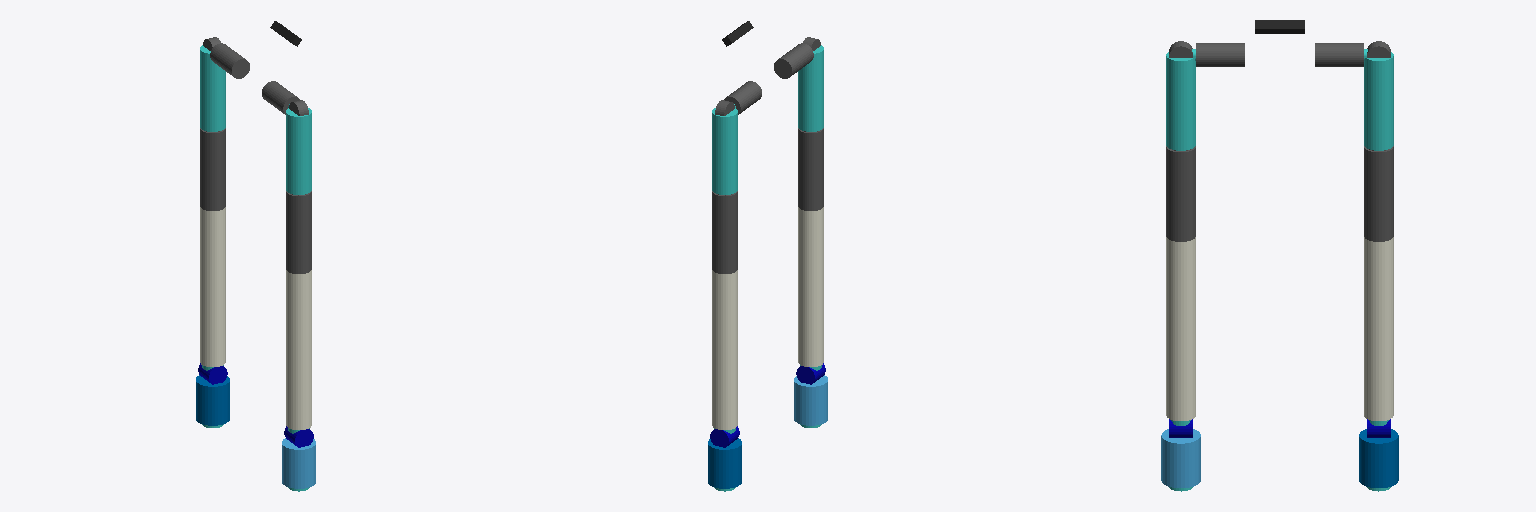
--- What the picture shows (computed from the rendered views, not written in the file) ---
The picture shows the robot from 3 angles, left to right: view 1: azimuth 30°, elevation 25°; view 2: azimuth 150°, elevation 25°; view 3: azimuth 270°, elevation 25°; orthographic projection.
Robot: buff_digit — 47 links, 46 joints (12 revolute, 1 continuous, 33 fixed); root link base_link; default pose: all joints at 0.
Visible links, largest first — view 1: left_link4, right_link4, right_link2, left_link3, right_link3, left_link2, left_gripper_base, right_gripper_base, left_attach, right_attach; view 2: left_link4, right_link4, left_link2, right_link3, left_link3, right_link2, right_gripper_base, left_gripper_base, right_attach, left_attach; view 3: left_link4, right_link4, left_link2, right_link2, left_link3, right_link3, left_gripper_base, right_gripper_base, left_attach, right_attach, torso_camera_link.
Link boxes in pixels (x1,y1,x2,y2): left_link4: (200, 207, 225, 366); right_link4: (286, 270, 311, 429); right_link2: (286, 108, 311, 194); left_link3: (200, 128, 225, 210); right_link3: (286, 191, 311, 273); left_link2: (200, 45, 225, 131); left_gripper_base: (196, 375, 229, 425); right_gripper_base: (282, 438, 315, 488); left_attach: (210, 43, 249, 78); right_attach: (262, 81, 299, 114); left_link4: (712, 270, 737, 429); right_link4: (798, 207, 823, 366); left_link2: (712, 108, 737, 194); right_link3: (798, 128, 823, 210); left_link3: (712, 191, 737, 273); right_link2: (798, 45, 823, 131); right_gripper_base: (794, 375, 827, 425); left_gripper_base: (708, 438, 741, 488); right_attach: (774, 43, 813, 78); left_attach: (724, 81, 761, 114); left_link4: (1364, 237, 1393, 420); right_link4: (1166, 237, 1195, 420); left_link2: (1364, 52, 1393, 150); right_link2: (1166, 52, 1195, 150); left_link3: (1364, 146, 1393, 241); right_link3: (1166, 146, 1195, 241); left_gripper_base: (1359, 429, 1398, 487); right_gripper_base: (1161, 429, 1200, 487); left_attach: (1315, 43, 1363, 66); right_attach: (1196, 43, 1244, 66); torso_camera_link: (1255, 20, 1304, 33).
Bounding box of the posed robot: 0.135 × 0.48 × 1.08 m (x, y, z).
Meshes: 9 distinct files referenced, 0 mesh visuals loaded (none loaded); not drawn: 17 (reference not matched to a file when rendering), 3 (reference in a form the renderer does not follow; not among the files counted above).

robot.urdf — buff_digit:
<robot name="buff_digit" >

  <material name="black">
    <color rgba="0.2 0.2 0.2 1.0"/>
  </material>
  <material name="blue">
    <color rgba="1.0 1.0 1.0 1.0"/>
  </material>
  <material name="green">
    <color rgba="1.0 1.0 1.0 1.0"/>
  </material>
  <material name="grey">
    <color rgba="0.4 0.4 0.4 1.0"/>
  </material>
  <material name="silver">
    <color rgba="0.913725490196 0.913725490196 0.847058823529 1.0"/>
  </material>
  <material name="orange">
    <color rgba="1.0 1.0 1.0 1.0"/>
  </material>
  <material name="brown">
    <color rgba="0.870588235294 0.811764705882 0.764705882353 1.0"/>
  </material>
  <material name="red">
    <color rgba="1.0 1.0 1.0 1.0"/>
  </material>
  <material name="white">
    <color rgba="1.0 1.0 1.0 1.0"/>
  </material>
  <material name="scarlet">
    <color rgba="0.28 0.82 0.8 1"/>
  </material>




<link name="torso">
    <inertial>
      <origin rpy="0 0 0" xyz="0.001637 0.0002 0.259547"/>
      <mass value="0.028392"/>
      <inertia ixx="0.376284" ixy="-8.8e-05" ixz="0.008378" iyy="0.342655" iyz="6.7e-05" izz="0.100648"/>
    </inertial>
    <visual>
      <origin rpy="0 0 0" xyz="0 0 0"/>
      <geometry>
        <mesh filename="stl/torso.stl"/>
      </geometry>
      <material name="scarlet"/> 
    </visual>
    <collision>
      <origin rpy="0 0 0" xyz="0 0 0"/>
      <geometry>
        <mesh filename="stl/torso.stl"/>
      </geometry>
    </collision>
  </link>


 
  <!-- LEGS -->
  <link name="left_hip_roll">
    <inertial>
      <origin rpy="0 0 0" xyz="-0.001967 0.000244 0.031435"/>
      <mass value="0.915088"/>
      <inertia ixx="0.001017" ixy="-3e-06" ixz="1.3e-05" iyy="0.001148" iyz="-4e-06" izz="0.000766"/>
    </inertial>
    <visual>
      <origin rpy="0 0 0" xyz="0 0 0"/>
      <geometry>
        <mesh filename="stl/hip-yaw-housing.stl"/>
      </geometry>
      <material name="grey">
        <color rgba="0.35 0.35 0.35 1"/>
      </material>
    </visual>
    <collision>
      <origin rpy="0 0 0" xyz="0 0 0"/>
      <geometry>
        <mesh filename="stl/hip-yaw-housing.stl"/>
      </geometry>
    </collision>
  </link>
  <link name="left_hip_yaw">
    <inertial>
      <origin rpy="0 0 0" xyz="1e-05 -0.001945 0.042033"/>
      <mass value="0.818753"/>
      <inertia ixx="0.001627" ixy="-1e-06" ixz="2e-06" iyy="0.001929" iyz="5.3e-05" izz="0.00077"/>
    </inertial>
    <visual>
      <origin rpy="0 0 0" xyz="0 0 0"/>
      <geometry>
        <mesh filename="stl/hip-pitch-housing.stl"/>
      </geometry>
      <material name="light_grey">
        <color rgba="0.75 0.75 0.75 1"/>
      </material>
    </visual>
     <collision>
      <origin rpy="0 0 0" xyz="0 0 0"/>
      <geometry>
        <mesh filename="stl/hip-pitch-housing.stl"/>
      </geometry>
    </collision>
  </link>
  <link name="left_hip_pitch">
    <inertial>
      <origin rpy="0 0 0" xyz="0.060537 0.000521 -0.038857"/>
      <mass value="6.244279"/>
      <inertia ixx="0.011533" ixy="-0.000171" ixz="0.000148" iyy="0.033345" iyz="0.000178" izz="0.033958"/>
    </inertial>
    <visual>
      <origin rpy="0 0 0" xyz="0 0 0"/>
      <geometry>
        <mesh filename="stl/hip-pitch.stl"/>
      </geometry>
      <material name="scarlet"/> 
    </visual>
    <collision>
      <origin rpy="0 0 0" xyz="0 0 0"/>
      <geometry>
        <mesh filename="stl/hip-pitch.stl"/>
      </geometry>
    </collision>
  </link>
  <link name="left_knee">
    <inertial>
      <origin rpy="0 0 0" xyz="0.045641 0.042154 0.001657"/>
      <mass value="1.227077"/>
      <inertia ixx="0.002643" ixy="-0.001832" ixz="6.6e-05" iyy="0.005098" iyz="4.5e-05" izz="0.007019"/>
    </inertial>
    <visual>
      <origin rpy="0 0 0" xyz="0 0 0"/>
      <geometry>
        <mesh filename="stl/knee.stl"/>
      </geometry>
      <material name="grey">
        <color rgba="0.35 0.35 0.35 1"/>
      </material>
    </visual>
    <collision>
      <origin rpy="0 0 0" xyz="0 0 0"/>
      <geometry>
        <mesh filename="stl/knee.stl"/>
      </geometry>
    </collision>
  </link>
  <link name="left_shin">
    <inertial>
      <origin rpy="0 0 0" xyz="0.174265 0.010265 0.00107"/>
      <mass value="0.895793"/>
      <inertia ixx="0.001128" ixy="0.001098" ixz="0.000196" iyy="0.022492" iyz="-3e-06" izz="0.022793"/>
    </inertial>
    <visual>
      <origin rpy="0 0 0" xyz="0 0 0"/>
      <geometry>
        <mesh filename="stl/shin.stl"/>
      </geometry>
      <material name="scarlet"/> 
    </visual>
    <collision>
      <origin rpy="0 0 0" xyz="0 0 0"/>
      <geometry>
        <mesh filename="stl/shin.stl"/>
      </geometry>
    </collision>
  </link>
 <link name="left_tarsus">
    <inertial>
      <origin rpy="0 0 0" xyz="0.000932 -0.029183 0.000678"/>
      <mass value="1.322865"/>
      <inertia ixx="0.000932" ixy="0.00061" ixz="0.000102" iyy="0.016409" iyz="9e-06" izz="0.016501"/>
    </inertial>
    <visual>
      <origin rpy="0 0 0" xyz="0 0 0"/>
      <geometry>
        <mesh filename="stl/tarsus.stl"/>
      </geometry>
      <material name="grey">
        <color rgba="0.35 0.35 0.35 1"/>
      </material>
    </visual>
    <collision>
      <origin rpy="0 0 0" xyz="0 0 0"/>
      <geometry>
        <!-- <mesh filename="stl/tarsus.stl"/> -->
        <box size="0.01 0.01 0.01"/>
      </geometry>
    </collision>
  </link>
  <link name="left_toe_pitch">
    <inertial>
      <origin rpy="0 0 0" xyz="-0.000141 2e-06 3e-06"/>
      <mass value="0.043881"/>
      <inertia ixx="5e-06" ixy="0" ixz="0" iyy="8e-06" iyz="0" izz="5e-06"/>
    </inertial>
    <visual>
      <origin rpy="0 0 0" xyz="0 0 0"/>
      <geometry>
        <mesh filename="stl/toe-pitch.stl"/>
      </geometry>
      <material name="light_grey">
        <color rgba="0.75 0.75 0.75 1"/>
      </material>
    </visual>
    <collision>
      <origin rpy="0 0 0" xyz="0 0 0"/>
      <geometry>
        <!-- <mesh filename="stl/toe-pitch.stl"/> -->
        <box size="0.001 0.001 0.001"/>
      </geometry>
    </collision>
  </link>
  <link name="left_toe_roll">
    <inertial>
      <origin rpy="0 0 0" xyz="9e-06 -0.028084 -0.023204"/>
      <mass value="0.531283"/>
      <inertia ixx="0.00187" ixy="0" ixz="0" iyy="0.001616" iyz="0.000566" izz="0.000843"/>
    </inertial>
    <visual>
      <origin rpy="0 0 0" xyz="0 0 0"/>
      <geometry>
        <mesh filename="stl/toe-roll.stl"/>
      </geometry>
      <material name="light_grey">
        <color rgba="0.75 0.75 0.75 1"/>
      </material>
    </visual>
    <collision>
      <origin rpy="0 0 0" xyz="0 0 0"/>
      <geometry>
        <!-- <mesh filename="stl/toe-roll.stl"/> -->
        <box size="0.01 0.01 0.01"/>
      </geometry>
    </collision>
  </link>



  <!-- left arm -->
    
 <joint name="left_attach_to_torso" type="fixed">
    <origin rpy="0 0 0" xyz="-0.001 0.12 0.4"/>
     <parent link="torso"/>
    <child link="left_attach"/>
   </joint>

<link name="left_attach">
    <inertial>
      <origin rpy="0 0 0" xyz="0 0 0"/>
       <mass value=".01"/>
       <inertia ixx="0" ixy="0" ixz="0" iyy="0" iyz="0" izz="0"/>
    </inertial>
    <visual>
      <origin rpy="1.5707  0 0" xyz="0 0 0"/>
      <geometry>
        <cylinder radius="0.025" length="0.1"/>
      </geometry>
       <material name="grey"/>
    </visual>
    <collision>
      <origin rpy="1.5707 0 0" xyz="0 0 0"/>
      <geometry>
        <cylinder radius="0.025" length="0.1"/>
      </geometry>
    </collision>
  </link>

  <joint name="left_arm_to_left_attach" type="fixed">
    <origin rpy="0 0 0" xyz="0 0 0"/>
     <parent link="left_attach"/>
    <child link="left_jlink0"/>
   </joint>

 <link name="left_jlink0">
    <inertial>
      <origin rpy="0 0 0" xyz="0 0 0"/>
       <mass value=".01"/>
       <inertia ixx="0" ixy="0" ixz="0" iyy="0" iyz="0" izz="0"/>
    </inertial>
    <visual>
      <origin rpy="1.5707  0 0" xyz="0 0 0"/>
      <geometry>
        <cylinder radius="0.025" length="0.025"/>
      </geometry>
       <material name="grey"/>
    </visual>
    <collision>
      <origin rpy="1.5707 0 0" xyz="0 0 0"/>
      <geometry>
        <cylinder radius="0.025" length="0.025"/>
      </geometry>
    </collision>
  </link>

  <link name="left_link1">
    <inertial>
      <origin rpy="0 0 0" xyz="0 0 0"/>
       <mass value=".000000001"/>
       <inertia ixx="0" ixy="0" ixz="0" iyy="0" iyz="0" izz="0"/>
    </inertial>
    <visual>
      <origin rpy="1.5707 0 0" xyz="0 0 0"/>
      <geometry>
       <cylinder radius="0.0125" length="0.08"/>
       <!-- <box size = "0.025 0.08 0.025"/> -->
      </geometry>
       <material name="scarlet"/> 
    </visual>
    <collision>
      <origin rpy="1.5707 0 0" xyz="0 0 0"/>
      <geometry>
       <cylinder radius="0.0125" length="0.08"/>
      </geometry>
    </collision>
  </link>

  <joint name="left_joint1f" type="revolute"> 
    <parent link="left_jlink0"/>
    <child link="left_link1"/>
    <origin rpy="0 0 0" xyz="0 0.04 0.0"/>  
    <axis xyz="0 1 0"/>
    <limit lower="-3.1415" upper="3.1415" effort="1.4" velocity="0.25"/>
  </joint>

  <link name="left_jlink1">
    <inertial>
      <origin rpy="0 0 0" xyz="0 0 0"/>
       <mass value=".01"/>
       <inertia ixx="0" ixy="0" ixz="0" iyy="0" iyz="0" izz="0"/>
    </inertial>
    <visual>
      <origin rpy="0 1.5707 0" xyz="0 0 0"/>
      <geometry>
        <cylinder radius="0.025" length="0.025"/>
      </geometry>
       <material name="grey"/>
    </visual>
    <collision>
      <origin rpy="0 1.5707 0" xyz="0 0 0"/>
      <geometry>
        <cylinder radius="0.025" length="0.025"/>
      </geometry>
    </collision>
</link>

  <joint name="left_joint1" type="revolute">
    <parent link="left_link1"/>
    <child link="left_jlink1"/>
    <origin rpy="0 0 0" xyz="0 0.04 0"/> 
    <axis xyz="1 0 0"/>
    <limit lower="-3.1415" upper="3.1415" effort="1.4" velocity="0.25"/>  
  </joint>

  <link name="left_link2">
    <inertial>
      <origin rpy="0 0 0" xyz="0 0 0"/>
       <mass value=".000000001"/>
       <inertia ixx="0" ixy="0" ixz="0" iyy="0" iyz="0" izz="0"/>
    </inertial>
    <visual>
      <origin rpy="0 0 0" xyz="0 0 0"/>
      <geometry>
       <cylinder radius="0.03" length="0.2"/>
      </geometry>
       <material name="scarlet"/> 
    </visual>
    <collision>
      <origin rpy="0 0 0" xyz="0 0 0"/>
      <geometry>
       <cylinder radius="0.03" length="0.2"/>
      </geometry>
    </collision>
</link>

<joint name="left_joint2f" type="fixed">
    <parent link="left_jlink1"/>
    <child link="left_link2"/>
    <origin rpy="0 0 0" xyz="0 0  -0.1"/> 
    <!-- <axis xyz="1 0 0"/>
    <limit lower="-3.1415" upper="3.1415" effort="1.4" velocity="0.25"/> -->    
</joint>

<link name="left_jlink2">
    <inertial>
      <origin rpy="0 0 0" xyz="0 0 0"/>
       <mass value=".01"/>
       <inertia ixx="0" ixy="0" ixz="0" iyy="0" iyz="0" izz="0"/>
    </inertial>
    <visual>
      <origin rpy="0 0 0" xyz="0 0 0"/>
      <geometry>
        <cylinder radius="0.025" length="0.025"/>
      </geometry>
       <material name="grey"/>
    </visual>
    <collision>
      <origin rpy="0 0 0" xyz="0 0 0"/>
      <geometry>
        <cylinder radius="0.025" length="0.025"/>
      </geometry>
    </collision>
</link>

<joint name="left_joint2" type="fixed">
    <parent link="left_link2"/>
    <child link="left_jlink2"/>
    <origin rpy="0 0 0" xyz="0 0 -0.1"/> 
    <!-- <axis xyz="0 0 1"/>
    <limit lower="-3.1415" upper="3.1415" effort="1.4" velocity="0.25"/>   -->
  </joint>

  <link name="left_link3">
    <inertial>
      <origin rpy="0 0 0" xyz="0 0 0"/>
       <mass value=".000000001"/>
       <inertia ixx="0" ixy="0" ixz="0" iyy="0" iyz="0" izz="0"/>
    </inertial>
    <visual>
      <origin rpy="0 0 0" xyz="0 0 0"/>
      <geometry>
       <cylinder radius="0.03" length="0.2"/>
      </geometry>
       <material name="grey"/> 
    </visual>
    <collision>
      <origin rpy="0 0 0" xyz="0 0 0"/>
      <geometry>
       <cylinder radius="0.03" length="0.2"/>
      </geometry>
    </collision>
</link>

<joint name="left_joint3f" type="fixed">
    <parent link="left_jlink2"/>
    <child link="left_link3"/>
    <origin rpy="0 0 0" xyz="0 0  -0.1035"/>   
</joint>

<link name="left_jlink3">
    <inertial>
      <origin rpy="0 0 0" xyz="0 0 0"/>
       <mass value=".01"/>
       <inertia ixx="0" ixy="0" ixz="0" iyy="0" iyz="0" izz="0"/>
    </inertial>
    <visual>
      <origin rpy="0 1.5707 0" xyz="0 0 0"/>
      <geometry>
        <cylinder radius="0.025" length="0.025"/>
      </geometry>
       <material name="scarlet"/>
    </visual>
    <collision>
      <origin rpy="0 1.5707 0" xyz="0 0 0"/>
      <geometry>
        <cylinder radius="0.025" length="0.025"/>
      </geometry>
    </collision>
</link>

<joint name="left_joint3" type="revolute">
    <parent link="left_link3"/>
    <child link="left_jlink3"/>
    <origin rpy="0 0 0" xyz="0 0.0 -0.1"/> 
    <axis xyz="1 0 0"/>
    <limit lower="-3.1415" upper="3.1415" effort="1.4" velocity="0.25"/>  
  </joint>

  <link name="left_link4">
    <inertial>
      <origin rpy="0 0 0" xyz="0 0 0"/>
       <mass value=".000000001"/>
       <inertia ixx="0" ixy="0" ixz="0" iyy="0" iyz="0" izz="0"/>
    </inertial>
    <visual>
      <origin rpy="0 0 0" xyz="0 0 0"/>
      <geometry>
       <cylinder radius="0.03" length="0.4"/>
      </geometry>
       <material name="silver"/> 
    </visual>
    <collision>
      <origin rpy="0 0 0" xyz="0 0 0"/>
      <geometry>
       <cylinder radius="0.03" length="0.4"/>
      </geometry>
    </collision>
</link>

<joint name="left_joint4f" type="fixed">
    <parent link="left_jlink3"/>
    <child link="left_link4"/>
    <origin rpy="0 0 0" xyz="0 0  -0.2"/>   
</joint>

<link name="left_jlink4">
    <inertial>
      <origin rpy="0 0 0" xyz="0.107996 0.000521 -0.017765"/>
      <mass value="0.550582"/>
      <inertia ixx="0.000476" ixy="-2.9e-05" ixz="0.001403" iyy="0.009564" iyz="-1.5e-05" izz="-9e-06"/>
    </inertial>
    <visual>
      <origin rpy="0 0 0 " xyz="0 0 0"/>
      <geometry>
        <cylinder radius="0.025" length="0.025"/>
      </geometry>
      <material name="scarlet"/> 
    </visual>
    <collision>
      <origin rpy="0 0 0" xyz="0 0 0"/>
      <geometry>
        <cylinder radius="0.025" length="0.025"/>
      </geometry>
    </collision>
</link>

<joint name="left_joint4" type="revolute">
    <origin rpy="0 0 0" xyz="0.0 0.0 -0.2"/>
    <parent link="left_link4"/>
    <child link="left_jlink4"/>
    <axis xyz="0 0 1"/>
    <limit effort="1.4" lower="-1.57" upper="1.57" velocity="10"/>
  </joint>

<link name="left_wrist">
    <inertial>
      <origin rpy="0 0 0" xyz="0.107996 0.000521 -0.017765"/>
      <mass value="0.550582"/>
      <inertia ixx="0.000476" ixy="-2.9e-05" ixz="0.001403" iyy="0.009564" iyz="-1.5e-05" izz="-9e-06"/>
    </inertial>
    <visual>
      <origin rpy="0 1.5707 1.5707 " xyz="0 0 0"/>
      <geometry>
        <cylinder radius="0.025" length="0.05"/>
      </geometry>
      <material name="blue">
        <color rgba="0.05 0.05 0.75 0.9"/>
      </material>
    </visual>
    <collision>
      <origin rpy="0 1.5707 1.5707" xyz="0 0 0"/>
      <geometry>
        <cylinder radius="0.025" length="0.05"/>
      </geometry>
    </collision>
  </link>
  <joint name="left_wrist_joint" type="revolute">
    <origin rpy="0 1.5707 0" xyz="0.0 0.0 -0.025"/>
    <parent link="left_jlink4"/>
    <child link="left_wrist"/>
    <axis xyz="0 1 0"/>
    <limit effort="1.4" lower="-1.57" upper="1.57" velocity="10"/>
  </joint>

  <link name="left_gripper_base">
    <inertial>
      <origin rpy="0 0 0" xyz="0 0 0"/>
      <mass value="0.2"/>
      <inertia ixx="0.0001" ixy="0" ixz="0" iyy="0.0001" iyz="0" izz="0.0001"/>
    </inertial>
    <visual>
      <origin rpy="0 1.5707 0" xyz="0 0 0"/>
      <geometry>
        <!-- <mesh filename="[local-path]/garage/kfp_v2/morpheus/models/yumi_description/meshes/gripper/base.stl"/> -->
        <cylinder radius="0.04" length="0.1"/>
      </geometry>
      <material name="Light_Grey"/>
    </visual>
    <collision>
      <origin rpy="0 1.5707 0" xyz="0 0 0"/>
      <geometry>
        <!-- <mesh filename="[local-path]/garage/kfp_v2/morpheus/models/yumi_description/meshes/gripper/coarse/base.stl"/> -->
       <cylinder radius="0.04" length="0.1"/>
      </geometry>
      <material name="Light_Grey"/>
    </collision>
  </link>

  <joint name="gripper_left_wrist_joint" type="revolute">
    <origin rpy="0 0 0" xyz="0.07 0 0"/>
    <parent link="left_wrist"/>
    <child link="left_gripper_base"/>
    <axis xyz="1 0 0"/>
    <limit effort="1.4" lower="-1.57" upper="1.57" velocity="10"/>
  </joint>

  <link name="left_gripper_ee">
    <inertial>
      <origin rpy="0 0 0" xyz="0 0 0"/>
      <mass value="0.2"/>
      <inertia ixx="0.0001" ixy="0" ixz="0" iyy="0.0001" iyz="0" izz="0.0001"/>
    </inertial>
    <visual>
      <origin rpy="0 1.5707 0" xyz="0 0 0"/>
      <geometry>        
       <cylinder radius="0.025" length="0.025"/>
      </geometry>
      <material name="scarlet"/>
    </visual>
    <collision>
      <origin rpy="0 1.5707 0" xyz="0 0 0"/>
      <geometry>
       <cylinder radius="0.025" length="0.025"/>
      </geometry> 
    </collision>
  </link>
  <joint name="left_gripper_baseee_to_gripper_base" type="fixed">
    <origin rpy="0 0 0" xyz="0.05125 0.0 0"/>
    <parent link="left_gripper_base"/>
    <child link="left_gripper_ee"/>
  </joint>










<!-- right leg -->
  <link name="right_hip_roll">
    <inertial>
      <origin rpy="0 0 0" xyz="-0.001967 -0.000244 0.031435"/>
      <mass value="0.915088"/>
      <inertia ixx="0.001017" ixy="3e-06" ixz="1.3e-05" iyy="0.001148" iyz="4e-06" izz="0.000766"/>
    </inertial>
    <visual>
      <origin rpy="0 0 0" xyz="0 0 0"/>
      <geometry>
        <mesh filename="stl/hip-yaw-housing.stl" scale="1 -1 1"/>
      </geometry>
      <material name="grey">
        <color rgba="0.35 0.35 0.35 1"/>
      </material>
    </visual>
    <collision>
      <origin rpy="0 0 0" xyz="0 0 0"/>
      <geometry>
        <mesh filename="stl/hip-yaw-housing.stl" scale="1 -1 1"/>
      </geometry>
    </collision>
  </link>
  <link name="right_hip_yaw">
    <inertial>
      <origin rpy="0 0 0" xyz="1e-05 0.001945 0.042033"/>
      <mass value="0.818753"/>
      <inertia ixx="0.001627" ixy="1e-06" ixz="2e-06" iyy="0.001929" iyz="-5.3e-05" izz="0.00077"/>
    </inertial>
    <visual>
      <origin rpy="0 0 0" xyz="0 0 0"/>
      <geometry>
        <mesh filename="stl/hip-pitch-housing.stl" scale="1 -1 1"/>
      </geometry>
      <material name="light_grey">
        <color rgba="0.75 0.75 0.75 1"/>
      </material>
    </visual>
    <collision>
      <origin rpy="0 0 0" xyz="0 0 0"/>
      <geometry>
        <mesh filename="stl/hip-pitch-housing.stl" scale="1 -1 1"/>
      </geometry>
    </collision>
  </link>
  <link name="right_hip_pitch">
    <inertial>
      <origin rpy="0 0 0" xyz="0.060537 -0.000521 -0.038857"/>
      <mass value="6.244279"/>
      <inertia ixx="0.011533" ixy="0.000171" ixz="0.000148" iyy="0.033345" iyz="-0.000178" izz="0.033958"/>
    </inertial>
    <visual>
      <origin rpy="0 0 0" xyz="0 0 0"/>
      <geometry>
        <mesh filename="stl/hip-pitch.stl" scale="1 -1 1"/>
      </geometry>
      <material name="scarlet"/> 
    </visual>
    <collision>
      <origin rpy="0 0 0" xyz="0 0 0"/>
      <geometry>
        <mesh filename="stl/hip-pitch.stl" scale="1 -1 1"/>
      </geometry>
    </collision>
  </link>
  <link name="right_knee">
    <inertial>
      <origin rpy="0 0 0" xyz="0.045641 -0.042154 0.001657"/>
      <mass value="1.227077"/>
      <inertia ixx="0.002643" ixy="0.001832" ixz="6.6e-05" iyy="0.005098" iyz="-4.5e-05" izz="0.007019"/>
    </inertial>
    <visual>
      <origin rpy="0 0 0" xyz="0 0 0"/>
      <geometry>
        <mesh filename="stl/knee.stl" scale="1 -1 1"/>
      </geometry>
      <material name="grey">
        <color rgba="0.35 0.35 0.35 1"/>
      </material>
    </visual>
    <collision>
      <origin rpy="0 0 0" xyz="0 0 0"/>
      <geometry>
        <mesh filename="stl/knee.stl" scale="1 -1 1"/>
      </geometry>
    </collision>
  </link>
  <link name="right_shin">
    <inertial>
      <origin rpy="0 0 0" xyz="0.174265 -0.010265 0.00107"/>
      <mass value="0.895793"/>
      <inertia ixx="0.001128" ixy="-0.001098" ixz="0.000196" iyy="0.022492" iyz="3e-06" izz="0.022793"/>
    </inertial>
    <visual>
      <origin rpy="0 0 0" xyz="0 0 0"/>
      <geometry>
        <mesh filename="stl/shin.stl" scale="1 -1 1"/>
      </geometry>
      <material name="scarlet"/> 
    </visual>
    <collision>
      <origin rpy="0 0 0" xyz="0 0 0"/>
      <geometry>
        <mesh filename="stl/shin.stl" scale="1 -1 1"/>
      </geometry>
    </collision>
  </link>
  <link name="right_tarsus">
    <inertial>
      <origin rpy="0 0 0" xyz="0.000932 0.029183 0.000678"/>
      <mass value="1.322865"/>
      <inertia ixx="0.000932" ixy="-0.00061" ixz="0.000102" iyy="0.016409" iyz="-9e-06" izz="0.016501"/>
    </inertial>
    <visual>
      <origin rpy="0 0 0" xyz="0 0 0"/>
      <geometry>
        <mesh filename="stl/tarsus.stl" scale="1 -1 1"/>
      </geometry>
      <material name="grey">
        <color rgba="0.35 0.35 0.35 1"/>
      </material>
    </visual>
    <collision>
      <origin rpy="0 0 0" xyz="0 0 0"/>
      <geometry>
         <box size="0.01 0.01 0.01"/>
      </geometry>
    </collision>
  </link>
  <link name="right_toe_pitch">
    <inertial>
      <origin rpy="0 0 0" xyz="-0.000141 -2e-06 3e-06"/>
      <mass value="0.043881"/>
      <inertia ixx="5e-06" ixy="0" ixz="0" iyy="8e-06" iyz="0" izz="5e-06"/>
    </inertial>
    <visual>
      <origin rpy="0 0 0" xyz="0 0 0"/>
      <geometry>
        <mesh filename="stl/toe-pitch.stl" scale="1 -1 1"/>
      </geometry>
      <material name="light_grey">
        <color rgba="0.75 0.75 0.75 1"/>
      </material>
    </visual>
    <collision>
      <origin rpy="0 0 0" xyz="0 0 0"/>
      <geometry>
         <box size="0.001 0.001 0.001"/>
      </geometry>
    </collision>
  </link>
  <link name="right_toe_roll">
    <inertial>
      <origin rpy="0 0 0" xyz="9e-06 0.028084 -0.023204"/>
      <mass value="0.531283"/>
      <inertia ixx="0.00187" ixy="0" ixz="0" iyy="0.001616" iyz="-0.000566" izz="0.000843"/>
    </inertial>
    <visual>
      <origin rpy="0 0 0" xyz="0 0 0"/>
      <geometry>
        <mesh filename="stl/toe-roll.stl" scale="1 -1 1"/>
      </geometry>
      <material name="light_grey">
        <color rgba="0.75 0.75 0.75 1"/>
      </material>
    </visual>
    <collision>
      <origin rpy="0 0 0" xyz="0 0 0"/>
      <geometry>
         <box size="0.01 0.01 0.01"/>
      </geometry>
    </collision>
  </link>




  <!-- right arm -->
   <joint name="right_attach_to_torso" type="fixed">
    <origin rpy="0 0 0" xyz="-0.001 -0.12 0.4"/>
     <parent link="torso"/>
    <child link="right_attach"/>
   </joint>

   <link name="right_attach">
    <inertial>
      <origin rpy="0 0 0" xyz="0 0 0"/>
       <mass value=".01"/>
       <inertia ixx="0" ixy="0" ixz="0" iyy="0" iyz="0" izz="0"/>
    </inertial>
    <visual>
      <origin rpy="1.5707  0 0" xyz="0 0 0"/>
      <geometry>
        <cylinder radius="0.025" length="0.1"/>
      </geometry>
       <material name="grey"/>
    </visual>
    <collision>
      <origin rpy="1.5707 0 0" xyz="0 0 0"/>
      <geometry>
        <cylinder radius="0.025" length="0.1"/>
      </geometry>
    </collision>
  </link>

  <joint name="right_arm_to_right_attach" type="fixed">
    <origin rpy="0 0 0" xyz="0 0 0"/>
     <parent link="right_attach"/>
    <child link="right_jlink0"/>
   </joint>



  <link name="right_jlink0">
    <inertial>
      <origin rpy="0 0 0" xyz="0 0 0"/>
       <mass value=".01"/>
       <inertia ixx="0" ixy="0" ixz="0" iyy="0" iyz="0" izz="0"/>
    </inertial>
    <visual>
      <origin rpy="1.5707  0 0" xyz="0 0 0"/>
      <geometry>
        <cylinder radius="0.025" length="0.025"/>
      </geometry>
       <material name="grey"/>
    </visual>
    <collision>
      <origin rpy="1.5707 0 0" xyz="0 0 0"/>
      <geometry>
        <cylinder radius="0.025" length="0.025"/>
      </geometry>
    </collision>
  </link>

  <link name="right_link1">
    <inertial>
      <origin rpy="0 0 0" xyz="0 0 0"/>
       <mass value=".000000001"/>
       <inertia ixx="0" ixy="0" ixz="0" iyy="0" iyz="0" izz="0"/>
    </inertial>
    <visual>
      <origin rpy="1.5707 0 0" xyz="0 0 0"/>
      <geometry>
       <cylinder radius="0.0125" length="0.08"/>
       <!-- <box size = "0.025 0.08 0.025"/> -->
      </geometry>
       <material name="scarlet"/> 
    </visual>
    <collision>
      <origin rpy="1.5707 0 0" xyz="0 0 0"/>
      <geometry>
       <cylinder radius="0.0125" length="0.08"/>
      </geometry>
    </collision>
  </link>

  <joint name="right_joint1f" type="revolute"> 
    <parent link="right_jlink0"/>
    <child link="right_link1"/>
    <origin rpy="0 0 0" xyz="0 -0.04 0.0"/>  
    <axis xyz="0 1 0"/>
    <limit lower="-3.1415" upper="3.1415" effort="1.4" velocity="0.25"/>
  </joint>

  <link name="right_jlink1">
    <inertial>
      <origin rpy="0 0 0" xyz="0 0 0"/>
       <mass value=".01"/>
       <inertia ixx="0" ixy="0" ixz="0" iyy="0" iyz="0" izz="0"/>
    </inertial>
    <visual>
      <origin rpy="0 1.5707 0" xyz="0 0 0"/>
      <geometry>
        <cylinder radius="0.025" length="0.025"/>
      </geometry>
       <material name="grey"/>
    </visual>
    <collision>
      <origin rpy="0 1.5707 0" xyz="0 0 0"/>
      <geometry>
        <cylinder radius="0.025" length="0.025"/>
      </geometry>
    </collision>
</link>

  <joint name="right_joint1" type="revolute">
    <parent link="right_link1"/>
    <child link="right_jlink1"/>
    <origin rpy="0 0 0" xyz="0 -0.04 0"/> 
    <axis xyz="1 0 0"/>
    <limit lower="-3.1415" upper="3.1415" effort="1.4" velocity="0.25"/>  
  </joint>

  <link name="right_link2">
    <inertial>
      <origin rpy="0 0 0" xyz="0 0 0"/>
       <mass value=".000000001"/>
       <inertia ixx="0" ixy="0" ixz="0" iyy="0" iyz="0" izz="0"/>
    </inertial>
    <visual>
      <origin rpy="0 0 0" xyz="0 0 0"/>
      <geometry>
       <cylinder radius="0.03" length="0.2"/>
      </geometry>
       <material name="scarlet"/> 
    </visual>
    <collision>
      <origin rpy="0 0 0" xyz="0 0 0"/>
      <geometry>
       <cylinder radius="0.03" length="0.2"/>
      </geometry>
    </collision>
</link>

<joint name="right_joint2f" type="fixed">
    <parent link="right_jlink1"/>
    <child link="right_link2"/>
    <origin rpy="0 0 0" xyz="0 0  -0.1"/>      
</joint>

<link name="right_jlink2">
    <inertial>
      <origin rpy="0 0 0" xyz="0 0 0"/>
       <mass value=".01"/>
       <inertia ixx="0" ixy="0" ixz="0" iyy="0" iyz="0" izz="0"/>
    </inertial>
    <visual>
      <origin rpy="0 0 0" xyz="0 0 0"/>
      <geometry>
        <cylinder radius="0.025" length="0.025"/>
      </geometry>
       <material name="grey"/>
    </visual>
    <collision>
      <origin rpy="0 0 0" xyz="0 0 0"/>
      <geometry>
        <cylinder radius="0.025" length="0.025"/>
      </geometry>
    </collision>
</link>

<joint name="right_joint2" type="fixed">
    <parent link="right_link2"/>
    <child link="right_jlink2"/>
    <origin rpy="0 0 0" xyz="0 0 -0.1"/>  
  </joint>

  <link name="right_link3">
    <inertial>
      <origin rpy="0 0 0" xyz="0 0 0"/>
       <mass value=".000000001"/>
       <inertia ixx="0" ixy="0" ixz="0" iyy="0" iyz="0" izz="0"/>
    </inertial>
    <visual>
      <origin rpy="0 0 0" xyz="0 0 0"/>
      <geometry>
       <cylinder radius="0.03" length="0.2"/>
      </geometry>
       <material name="grey"/> 
    </visual>
    <collision>
      <origin rpy="0 0 0" xyz="0 0 0"/>
      <geometry>
       <cylinder radius="0.03" length="0.2"/>
      </geometry>
    </collision>
</link>

<joint name="right_joint3f" type="fixed">
    <parent link="right_jlink2"/>
    <child link="right_link3"/>
    <origin rpy="0 0 0" xyz="0 0  -0.1035"/>   
</joint>

<link name="right_jlink3">
    <inertial>
      <origin rpy="0 0 0" xyz="0 0 0"/>
       <mass value=".01"/>
       <inertia ixx="0" ixy="0" ixz="0" iyy="0" iyz="0" izz="0"/>
    </inertial>
    <visual>
      <origin rpy="0 1.5707 0" xyz="0 0 0"/>
      <geometry>
        <cylinder radius="0.025" length="0.025"/>
      </geometry>
       <material name="scarlet"/>
    </visual>
    <collision>
      <origin rpy="0 1.5707 0" xyz="0 0 0"/>
      <geometry>
        <cylinder radius="0.025" length="0.025"/>
      </geometry>
    </collision>
</link>

<joint name="right_joint3" type="revolute">
    <parent link="right_link3"/>
    <child link="right_jlink3"/>
    <origin rpy="0 0 0" xyz="0 0.0 -0.1"/> 
    <axis xyz="1 0 0"/>
    <limit lower="-3.1415" upper="3.1415" effort="1.4" velocity="0.25"/>  
  </joint>

  <link name="right_link4">
    <inertial>
      <origin rpy="0 0 0" xyz="0 0 0"/>
       <mass value=".000000001"/>
       <inertia ixx="0" ixy="0" ixz="0" iyy="0" iyz="0" izz="0"/>
    </inertial>
    <visual>
      <origin rpy="0 0 0" xyz="0 0 0"/>
      <geometry>
       <cylinder radius="0.03" length="0.4"/>
      </geometry>
       <material name="silver"/> 
    </visual>
    <collision>
      <origin rpy="0 0 0" xyz="0 0 0"/>
      <geometry>
       <cylinder radius="0.03" length="0.4"/>
      </geometry>
    </collision>
</link>

<joint name="right_joint4f" type="fixed">
    <parent link="right_jlink3"/>
    <child link="right_link4"/>
    <origin rpy="0 0 0" xyz="0 0  -0.2"/>   
</joint>

<link name="right_jlink4">
    <inertial>
      <origin rpy="0 0 0" xyz="0.107996 0.000521 -0.017765"/>
      <mass value="0.550582"/>
      <inertia ixx="0.000476" ixy="-2.9e-05" ixz="0.001403" iyy="0.009564" iyz="-1.5e-05" izz="-9e-06"/>
    </inertial>
    <visual>
      <origin rpy="0 0 0 " xyz="0 0 0"/>
      <geometry>
        <cylinder radius="0.025" length="0.025"/>
      </geometry>
      <material name="scarlet"/> 
    </visual>
    <collision>
      <origin rpy="0 0 0" xyz="0 0 0"/>
      <geometry>
        <cylinder radius="0.025" length="0.025"/>
      </geometry>
    </collision>
</link>

<joint name="right_joint4" type="revolute">
    <origin rpy="0 0 0" xyz="0.0 0.0 -0.2"/>
    <parent link="right_link4"/>
    <child link="right_jlink4"/>
    <axis xyz="0 0 1"/>
    <limit effort="1.4" lower="-1.57" upper="1.57" velocity="10"/>
  </joint>

<link name="right_wrist">
    <inertial>
      <origin rpy="0 0 0" xyz="0.107996 0.000521 -0.017765"/>
      <mass value="0.550582"/>
      <inertia ixx="0.000476" ixy="-2.9e-05" ixz="0.001403" iyy="0.009564" iyz="-1.5e-05" izz="-9e-06"/>
    </inertial>
    <visual>
      <origin rpy="0 1.5707 1.5707 " xyz="0 0 0"/>
      <geometry>
        <cylinder radius="0.025" length="0.05"/>
      </geometry>
      <material name="blue">
        <color rgba="0.05 0.05 0.75 0.9"/>
      </material>
    </visual>
    <collision>
      <origin rpy="0 1.5707 1.5707" xyz="0 0 0"/>
      <geometry>
        <cylinder radius="0.025" length="0.05"/>
      </geometry>
    </collision>
  </link>
  <joint name="right_wrist_joint" type="revolute">
    <origin rpy="0 1.5707 0" xyz="0.0 0.0 -0.025"/>
    <parent link="right_jlink4"/>
    <child link="right_wrist"/>
    <axis xyz="0 1 0"/>
    <limit effort="1.4" lower="-1.57" upper="1.57" velocity="10"/>
  </joint>

  <link name="right_gripper_base">
    <inertial>
      <origin rpy="0 0 0" xyz="0 0 0"/>
      <mass value="0.2"/>
      <inertia ixx="0.0001" ixy="0" ixz="0" iyy="0.0001" iyz="0" izz="0.0001"/>
    </inertial>
    <visual>
      <origin rpy="0 1.5707 0" xyz="0 0 0"/>
      <geometry>
        <!-- <mesh filename="[local-path]/garage/kfp_v2/morpheus/models/yumi_description/meshes/gripper/base.stl"/> -->
        <cylinder radius="0.04" length="0.1"/>
      </geometry>
      <material name="Light_Grey"/>
    </visual>
    <collision>
      <origin rpy="0 1.5707 0" xyz="0 0 0"/>
      <geometry>
        <!-- <mesh filename="[local-path]/garage/kfp_v2/morpheus/models/yumi_description/meshes/gripper/coarse/base.stl"/> -->
       <cylinder radius="0.04" length="0.1"/>
      </geometry>
      <material name="Light_Grey"/>
    </collision>
  </link>

  <joint name="gripper_right_wrist_joint" type="revolute">
    <origin rpy="0 0 0" xyz="0.07 0 0"/>
    <parent link="right_wrist"/>
    <child link="right_gripper_base"/>
    <axis xyz="1 0 0"/>
    <limit effort="1.4" lower="-1.57" upper="1.57" velocity="10"/>
  </joint>

  <link name="right_gripper_ee">
    <inertial>
      <origin rpy="0 0 0" xyz="0 0 0"/>
      <mass value="0.2"/>
      <inertia ixx="0.0001" ixy="0" ixz="0" iyy="0.0001" iyz="0" izz="0.0001"/>
    </inertial>
    <visual>
      <origin rpy="0 1.5707 0" xyz="0 0 0"/>
      <geometry>        
       <cylinder radius="0.025" length="0.025"/>
      </geometry>
      <material name="scarlet"/>
    </visual>
    <collision>
      <origin rpy="0 1.5707 0" xyz="0 0 0"/>
      <geometry>
       <cylinder radius="0.025" length="0.025"/>
      </geometry> 
    </collision>
  </link>
  <joint name="right_gripper_baseee_to_gripper_base" type="fixed">
    <origin rpy="0 0 0" xyz="0.05125 0.0 0"/>
    <parent link="right_gripper_base"/>
    <child link="right_gripper_ee"/>
  </joint>









  
    
  <joint name="hip_abduction_left" type="fixed">
    <origin rpy="1.57079632679 -1.57079632679 -1.57079632679" xyz="-0.001 0.091 0"/>
    <axis xyz="0 0 1"/>
    <parent link="torso"/>
    <child link="left_hip_roll"/>
    <limit effort="1.4" lower="-1.0472" upper="1.0472" velocity="12.15"/>
  </joint>
  <joint name="hip_rotation_left" type="fixed">
    <origin rpy="0 -1.57079632679 0" xyz="-0.0505 0 0.044"/>
    <axis xyz="0 0 1"/>
    <parent link="left_hip_roll"/>
    <child link="left_hip_yaw"/>
    <limit effort="1.4" lower="-0.698132" upper="0.698132" velocity="12.15"/>
  </joint>
  <joint name="hip_flexion_left" type="fixed">
    <origin rpy="-1.57079632679 -0.785398163397 3.14159265359" xyz="0 0.004 0.068"/>
    <axis xyz="0 0 -1"/>
    <parent link="left_hip_yaw"/>
    <child link="left_hip_pitch"/>
    <limit effort="12.5" lower="-1.0472" upper="1.57079632679" velocity="8.5"/>
  </joint>
  <joint name="knee_joint_left" type="fixed">
    <origin rpy="0 0 -1.17079632679" xyz="0.12 0 0.0045"/>
    <axis xyz="0 0 1"/>
    <parent link="left_hip_pitch"/>
    <child link="left_knee"/>
    <limit effort="12.5" lower="-1.2392" upper="0.8727" velocity="8.5085"/>
  </joint>
  <joint name="knee_to_shin_left" type="fixed">
    <origin rpy="0 0 0" xyz="0.060677 0.047406 0"/>
    <axis xyz="0 0 1"/>
    <parent link="left_knee"/>
    <child link="left_shin"/>
    <limit effort="0" lower="-0.35" upper="0.35" velocity="10"/>
  </joint>
  <joint name="shin_to_tarsus_left" type="fixed">
    <origin rpy="0 0 1.7976891" xyz="0.434759 0.02 0"/>
    <axis xyz="0 0 1"/>
    <parent link="left_shin"/>
    <child link="left_tarsus"/>
    <limit effort="0" lower="-0.8779" upper="1.2497" velocity="20"/>
  </joint>
  <joint name="toe_pitch_joint_left" type="fixed">
    <origin rpy="0 0 0.7" xyz="0.408 -0.04 0"/>
    <axis xyz="0 0 1"/>
    <parent link="left_tarsus"/>
    <child link="left_toe_pitch"/>
    <limit effort="0.9" lower="-0.785398163397" upper="0.785398163397" velocity="11.5"/>
  </joint>
  <joint name="toe_roll_joint_left" type="fixed">
    <origin rpy="0 1.57079632679 0" xyz="0 0 0"/>
    <axis xyz="0 0 1"/>
    <parent link="left_toe_pitch"/>
    <child link="left_toe_roll"/>
    <limit effort="0.9" lower="-0.6109" upper="0.6109" velocity="11.5"/>
  </joint>
  

  <joint name="hip_abduction_right" type="fixed">
    <origin rpy="-1.57079632679 -1.57079632679 1.57079632679" xyz="-0.001 -0.091 0"/>
    <axis xyz="0 0 1"/>
    <parent link="torso"/>
    <child link="right_hip_roll"/>
    <limit effort="1.4" lower="-1.0472" upper="1.0472" velocity="12.15"/>
  </joint>
  <joint name="hip_rotation_right" type="fixed">
    <origin rpy="0 -1.57079632679 0" xyz="-0.0505 0 0.044"/>
    <axis xyz="0 0 1"/>
    <parent link="right_hip_roll"/>
    <child link="right_hip_yaw"/>
    <limit effort="1.4" lower="-0.698132" upper="0.698132" velocity="12.15"/>
  </joint>
  <joint name="hip_flexion_right" type="fixed">
    <origin rpy="1.57079632679 -0.785398163397 -3.14159265359" xyz="0 -0.004 0.068"/>
    <axis xyz="0 0 -1"/>
    <parent link="right_hip_yaw"/>
    <child link="right_hip_pitch"/>
    <limit effort="12.5" lower="-1.57079632679" upper="1.0472" velocity="8.5"/>
  </joint>
  <joint name="knee_joint_right" type="fixed">
    <origin rpy="0 0 1.17079632679" xyz="0.12 0 0.0045"/>
    <axis xyz="0 0 1"/>
    <parent link="right_hip_pitch"/>
    <child link="right_knee"/>
    <limit effort="12.5" lower="-0.8727" upper="1.2392" velocity="8.5085"/>
  </joint>
  <joint name="knee_to_shin_right" type="fixed">
    <origin rpy="0 0 0" xyz="0.060677 -0.047406 0"/>
    <axis xyz="0 0 1"/>
    <parent link="right_knee"/>
    <child link="right_shin"/>
    <limit effort="0" lower="-0.35" upper="0.35" velocity="10"/>
  </joint>
  <joint name="shin_to_tarsus_right" type="fixed">
    <origin rpy="0 0 -1.7976891" xyz="0.434759 -0.02 0"/>
    <axis xyz="0 0 1"/>
    <parent link="right_shin"/>
    <child link="right_tarsus"/>
    <limit effort="0" lower="-1.2497" upper="0.8779" velocity="20"/>
  </joint>
  <joint name="toe_pitch_joint_right" type="fixed">
    <origin rpy="0 0 -0.7" xyz="0.408 0.04 0"/>
    <axis xyz="0 0 1"/>
    <parent link="right_tarsus"/>
    <child link="right_toe_pitch"/>
    <limit effort="0.9" lower="-0.785398163397" upper="0.785398163397" velocity="11.5"/>
  </joint>
  <joint name="toe_roll_joint_right" type="fixed">
    <origin rpy="0 1.57079632679 0" xyz="0 0 0"/>
    <axis xyz="0 0 1"/>
    <parent link="right_toe_pitch"/>
    <child link="right_toe_roll"/>
    <limit effort="0.9" lower="-0.6109" upper="0.6109" velocity="11.5"/>
  </joint>

   

<!-- joint to freight base -->
<joint name="digit_to_freight" type="fixed">
    <origin rpy="0 0 0" xyz="0 0  0.9"/>
    <parent link="base_link"/>
    <child link="torso"/>
</joint>

 

<link name="base_link">
    <inertial>
      <origin rpy="0 0 0" xyz="0 0 0"/>
      <mass value="15.028392"/>
      <inertia ixx="0.0045" ixy="0" ixz="0" iyy="0.005" iyz="0" izz="0.0045" />
    </inertial>
    <visual>
      <origin rpy="1.57 0 1.57" xyz="0.33 -0.25 0.0"/>
      <geometry>
        <mesh filename="[local-path]/garage/kfp_v2/digit/models/hoverboard/meshes/base.obj" scale="0.025 0.025 0.025"/> 
      </geometry>
      <material name="scarlet"/> 
    </visual>
    <collision>
      <origin rpy="1.57  0 1.57 " xyz="0 0 0"/>
      <geometry>
        <!-- <mesh filename="meshes/base.obj" scale="0.05 0.05 0.05"/> -->
        <box size="0.5 0.15 0.5"/>
      </geometry>
    </collision>
</link>

<link name="right_wheel">
    <inertial>
      <origin rpy="0 0 0" xyz="0 0 0"/>
      <mass value="4.028392"/>
      <inertia ixx="0.0045" ixy="0" ixz="0" iyy="0.005" iyz="0" izz="0.0045" />
    </inertial>
    <visual>
      <origin rpy="1.57 0 1.57" xyz="-0.33 0.255 0.0"/>
      <geometry>
        <mesh filename="[local-path]/garage/kfp_v2/digit/models/hoverboard/meshes/wheel.stl" scale="0.025 0.025 0.025"/>
       </geometry>
      <material name="black">
        <color rgba="0.2 0.2 0.2 1"/>
      </material>
    </visual>
    <collision>
      <origin rpy="1.57  0 1.57 " xyz="0 0 0"/>
      <geometry>
        <box size="0.005 0.005 0.005"/>

       </geometry>
    </collision>
</link>

<joint name="wheelr_to_base" type="continuous">
  <origin rpy="0 0 3.14159265359" xyz="0 0 0"/>
    <axis xyz="0 1 0"/>
    <parent link="base_link"/>
    <child link="right_wheel"/>
    <limit effort="8.85" velocity="34.8" />
</joint>

<link name="left_wheel">
    <inertial>
      <origin rpy="0 0 0" xyz="0 0 0"/>
      <mass value="4.028392"/>
      <inertia ixx="0.0045" ixy="0" ixz="0" iyy="0.005" iyz="0" izz="0.0045" />
    </inertial>
    <visual>
      <origin rpy="1.57 0 1.57" xyz="0.33 -0.74 0.01"/>
      <geometry>
        <mesh filename="[local-path]/garage/kfp_v2/digit/models/hoverboard/meshes/wheel.stl" scale="0.025 0.025 0.025"/>
       </geometry>
      <material name="black">
        <color rgba="0.2 0.2 0.2 1"/>
      </material>
    </visual>
    <collision>
      <origin rpy="1.57  0 1.57 " xyz="0 0 0"/>
      <geometry>
       <box size="0.005 0.005 0.005"/>

       </geometry>
    </collision>
</link>

<joint name="wheell_to_base" type="fixed">
  <origin rpy="0 0 0" xyz="0 1.0 0"/>
    <axis xyz="0 1 0"/>
    <parent link="base_link"/>
    <child link="left_wheel"/>
    <limit effort="8.85" velocity="34.8" />
</joint>

<link name="torso_camera_link">
    <inertial>
      <origin rpy="0 0 0" xyz="-0.0306228970175641 0.0007091682908278 0.0551974119471302" />
      <mass value="0.00833634573995571" />
      <inertia ixx="1.01866461240801E-06" ixy="-5.88447626567756E-08" ixz="7.83857244757914E-08" iyy="5.10039589974707E-07" iyz="-7.12664289617235E-09" izz="1.28270671527309E-06" />
    </inertial>
    <visual>
      <origin rpy="0 0 0" xyz="0 0 0" />
      <geometry> 
       <box size="0.02 0.02 0.1"/>
      </geometry>
      <material name="black">
        <color rgba="0.2 0.2 0.2 1" />
      </material>
    </visual>
    <collision>
      <origin rpy="0 0 0" xyz="0. 0 0" />
      <geometry>
       <box size="0.02 0.02 0.1"/>
      </geometry>
    </collision>
  </link> 
  <joint name="camera_joint" type="fixed">
    <origin rpy="1.5707 0.666 0" xyz="0.08 0 0.5" />
    <parent link="torso" />
    <child link="torso_camera_link" />
  </joint> 


</robot>
